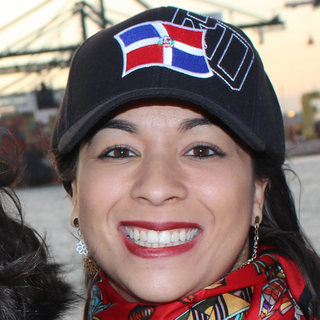eye: (178, 140, 227, 164), (96, 141, 143, 165)
